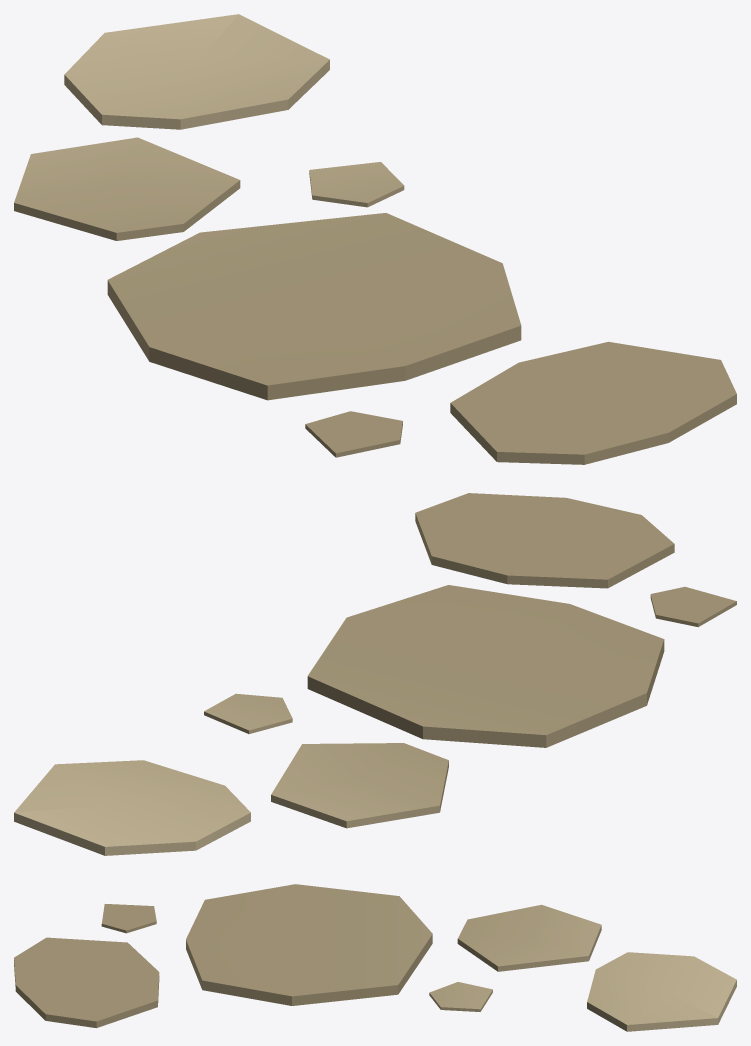
Rendered from Road_Pebble.gltf.
3 renders of one model, top to bottom at view 1: azimuth 30°, elevation 25°; view 2: azimuth 150°, elevation 25°; view 3: azimuth 270°, elevation 25°, orthographic. The views are drawn at different scales.
Visible parts, largest first — view 1: Road_PebblePiece_D, Road_PebblePiece_F, Road_PebblePiece_A, Road_PebblePiece_B, Road_PebblePiece_C, Road_PebblePiece_E; view 2: Road_PebblePiece_D, Road_PebblePiece_F, Road_PebblePiece_A, Road_PebblePiece_B, Road_PebblePiece_C, Road_PebblePiece_E; view 3: Road_PebblePiece_D, Road_PebblePiece_F, Road_PebblePiece_A, Road_PebblePiece_B, Road_PebblePiece_C, Road_PebblePiece_E.
Boxes of the visible parts, bbox=[...] form: Road_PebblePiece_D: bbox=[107, 213, 521, 400]; Road_PebblePiece_F: bbox=[450, 341, 736, 464]; Road_PebblePiece_A: bbox=[64, 14, 329, 129]; Road_PebblePiece_B: bbox=[14, 137, 240, 240]; Road_PebblePiece_C: bbox=[309, 162, 404, 207]; Road_PebblePiece_E: bbox=[305, 411, 402, 457]; Road_PebblePiece_D: bbox=[307, 585, 664, 747]; Road_PebblePiece_F: bbox=[415, 493, 674, 588]; Road_PebblePiece_A: bbox=[14, 760, 250, 855]; Road_PebblePiece_B: bbox=[271, 743, 448, 828]; Road_PebblePiece_C: bbox=[204, 693, 292, 733]; Road_PebblePiece_E: bbox=[650, 586, 736, 627]; Road_PebblePiece_D: bbox=[186, 884, 432, 1005]; Road_PebblePiece_F: bbox=[14, 937, 159, 1028]; Road_PebblePiece_A: bbox=[587, 952, 736, 1031]; Road_PebblePiece_B: bbox=[457, 904, 601, 971]; Road_PebblePiece_C: bbox=[429, 982, 492, 1011]; Road_PebblePiece_E: bbox=[101, 904, 156, 933].
Size of the model in its own units: 1.03 by 0.0334 by 2.26.
1 material, 1 textured.
